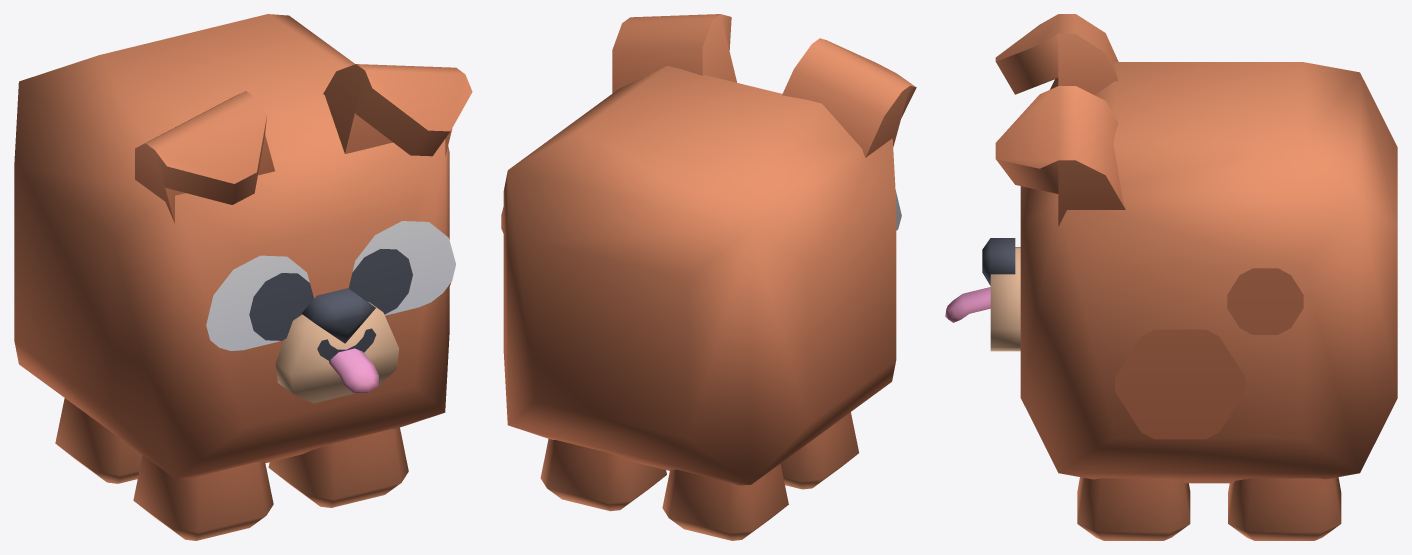
File: animal-dog.obj
3 views of the same model, side by side, from view 1: azimuth 30°, elevation 25°; view 2: azimuth 150°, elevation 25°; view 3: azimuth 270°, elevation 25° (orthographic). The views are drawn at different scales.
Parts seen in each view (by area): view 1: body, leg-front-right, leg-front-left, leg-back-right; view 2: body, leg-back-right, leg-back-left, leg-front-right; view 3: body, leg-back-left, leg-front-left.
Part boxes in pixels (bbox=[...]): body: bbox=[14, 14, 472, 479]; leg-front-right: bbox=[133, 455, 273, 540]; leg-front-left: bbox=[268, 427, 408, 507]; leg-back-right: bbox=[55, 398, 142, 483]; body: bbox=[501, 14, 916, 485]; leg-back-right: bbox=[662, 463, 788, 540]; leg-back-left: bbox=[540, 439, 666, 511]; leg-front-right: bbox=[780, 412, 858, 489]; body: bbox=[945, 14, 1397, 483]; leg-back-left: bbox=[1228, 477, 1341, 540]; leg-front-left: bbox=[1077, 477, 1190, 540].
Bounding box in the file's own units: 1.26 × 1.58 × 1.5.
1 material, 1 textured.
